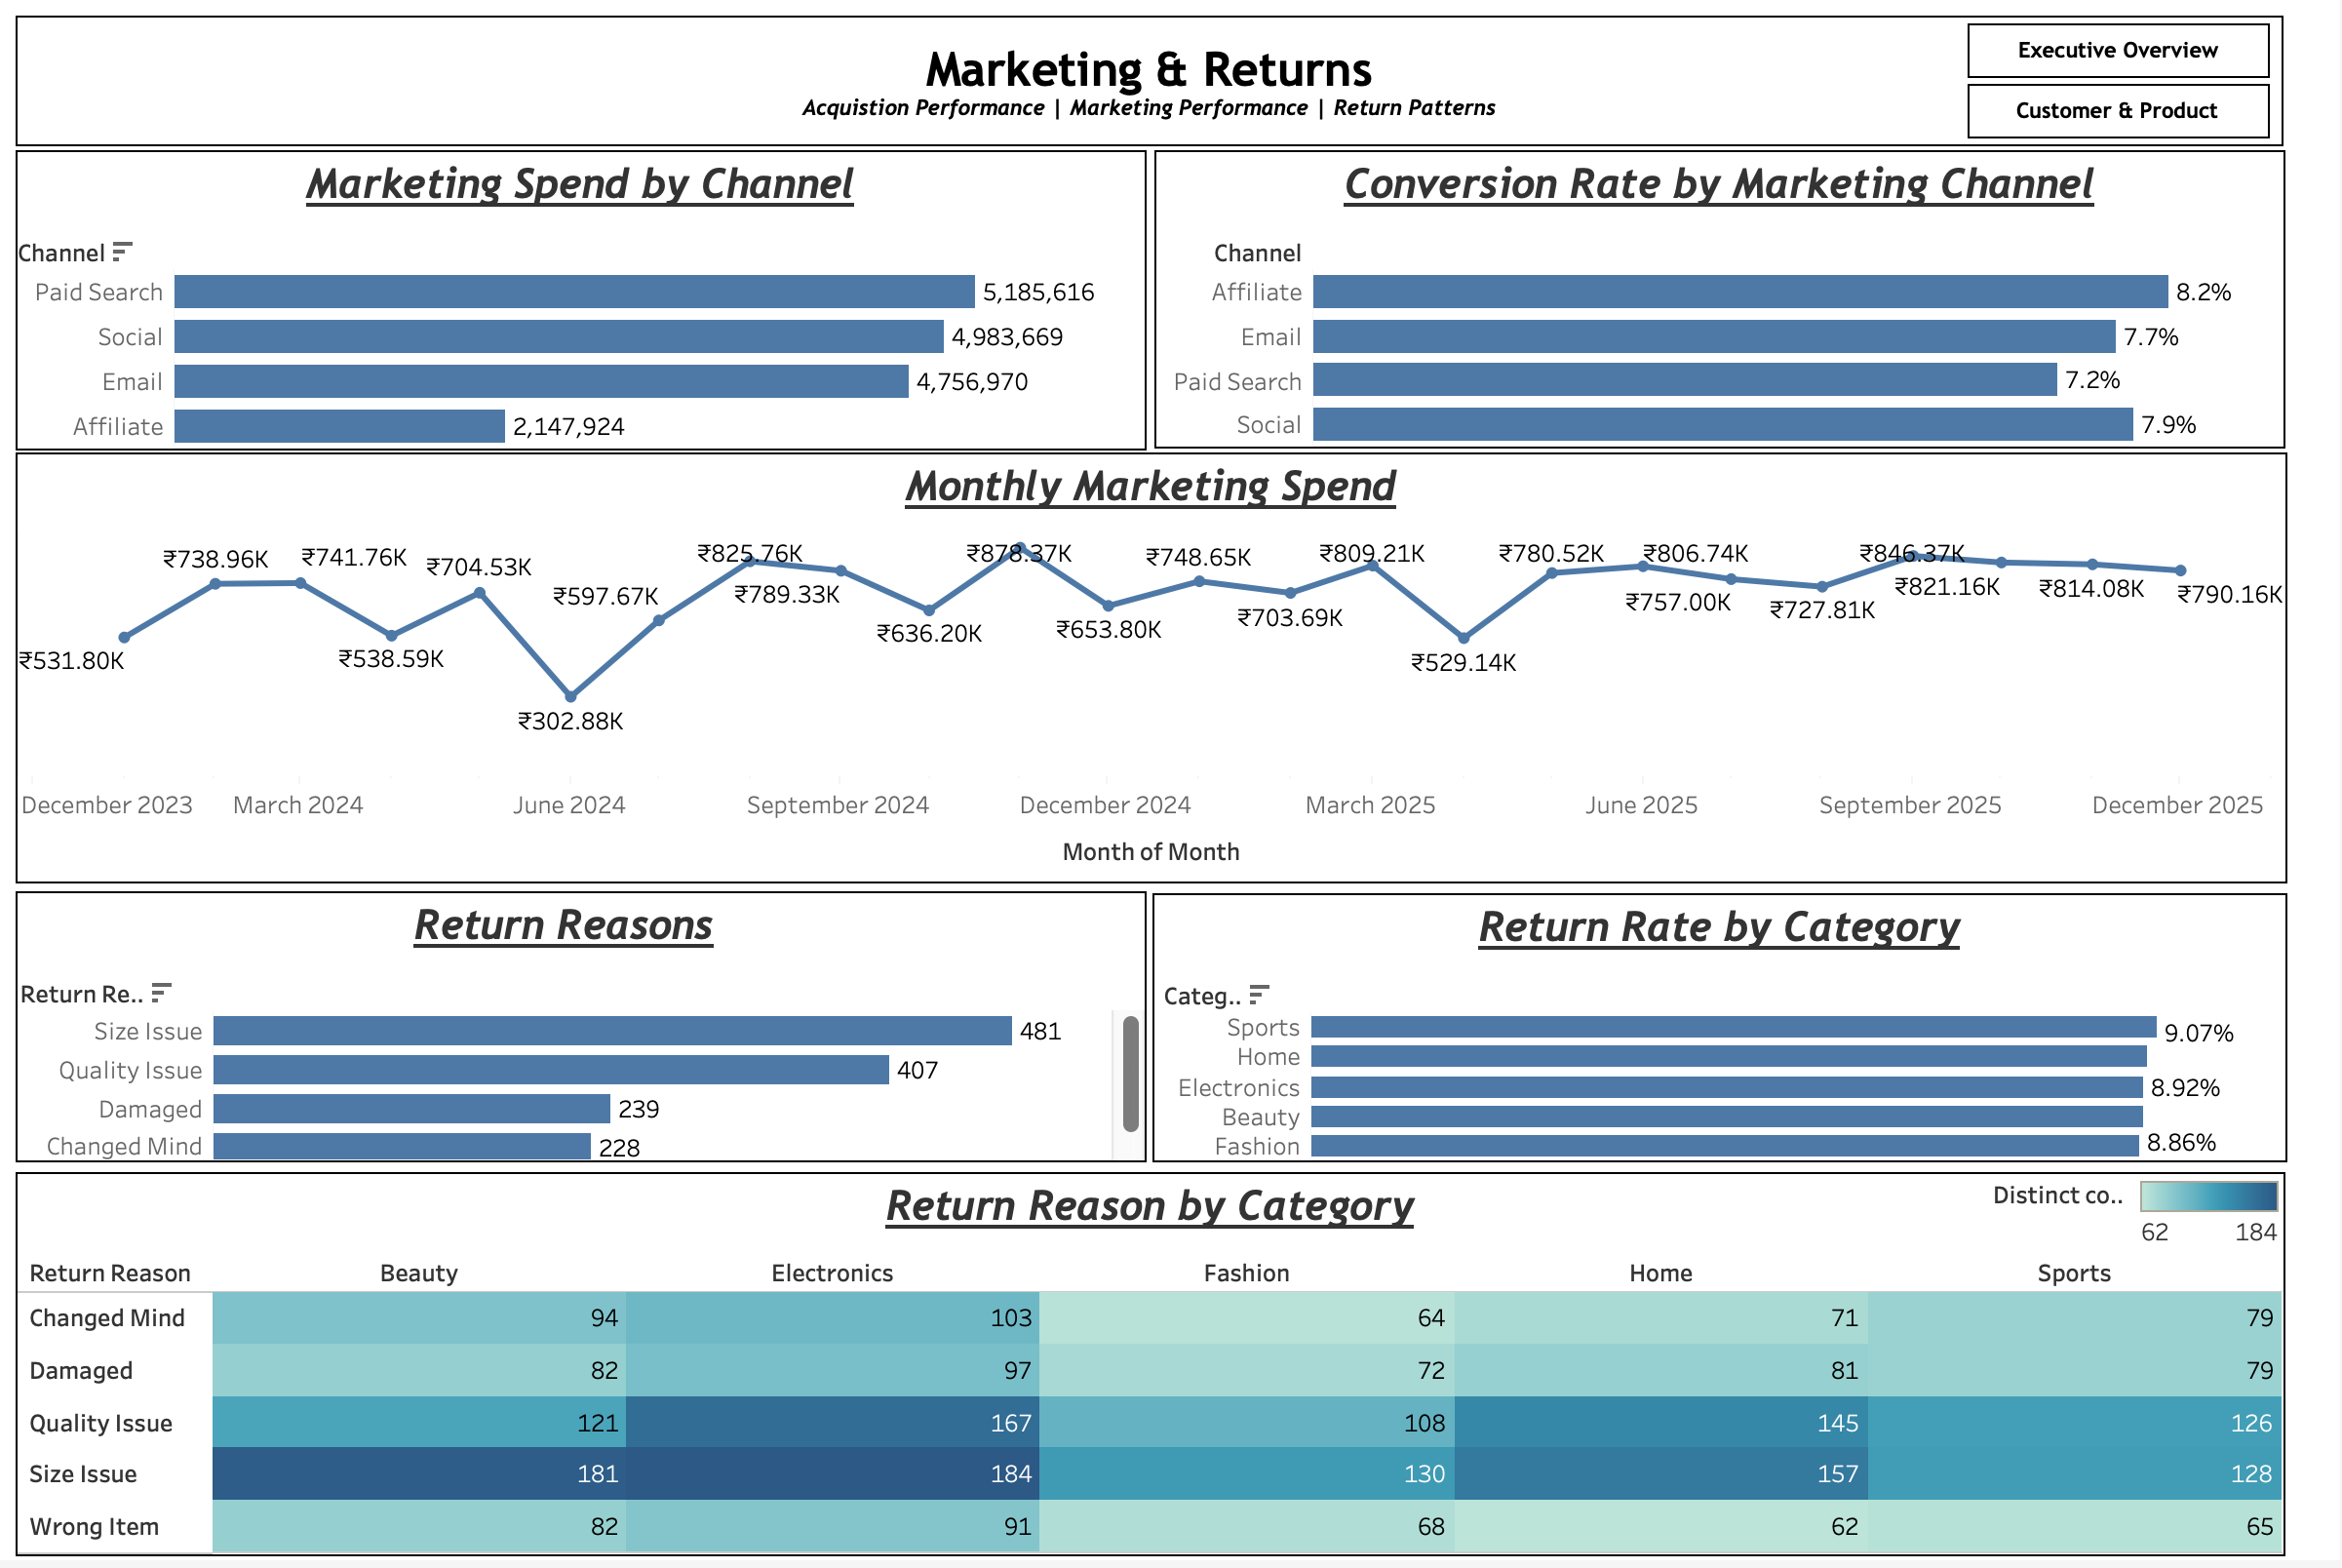

This screenshot's page, from the dashboard's own definition file:
{"tool":"tableau","page":{"name":"Marketing & Returns","canvas":[1200,800],"ordinal":2},"visuals":[{"type":"text","box":[8,8,1163,67]},{"type":"dashboard-object","box":[1009,12,155,28]},{"type":"dashboard-object","box":[1009,43,155,28]},{"type":"worksheet","title":"Marketing Spend by Channel","mark":"Automatic","rows":["channel"],"cols":["spend"],"box":[7.6,76.9,580.4,153.8]},{"type":"worksheet","title":"Marketing Conversion Rate by Channel","mark":"Automatic","rows":["channel"],"cols":["Calculation_6596428796809224"],"box":[592.4,76.9,580.4,153]},{"type":"worksheet","title":"Monthly Marketing Spend","mark":"Automatic","rows":["spend"],"cols":["month"],"box":[7.6,232.4,1165.2,221.1]},{"type":"worksheet","title":"Return Reasons","mark":"Automatic","rows":["return_reason"],"cols":["return_id"],"box":[7.6,457.5,580.4,139.3]},{"type":"worksheet","title":"Return Rate by Category","mark":"Bar","rows":["category"],"cols":["Calculation_6596428695355394"],"box":[590.9,458.3,581.9,137.6]},{"type":"worksheet","title":"Return Reason * Category","mark":"Square","rows":["return_reason"],"cols":["category"],"box":[7.6,600.8,1164.5,196.8]},{"type":"legend","title":"Return Reason * Category","param":"[federated.1gzx9gp1j1lm3x145ygit1gli344].[ctd:return_id:qk]","box":[1021.7,602.4,151.1,37.2]}]}

Visuals, with their boxes in screenshot pixels (x1, y1, x2, y2), scaled from the page's 1200x800 canvas onto the 2342x1568 screenshot:
text: (x1=16, y1=16, x2=2285, y2=147)
dashboard-object: (x1=1970, y1=23, x2=2272, y2=78)
dashboard-object: (x1=1970, y1=84, x2=2272, y2=139)
"Marketing Spend by Channel" worksheet: (x1=15, y1=151, x2=1148, y2=452)
"Marketing Conversion Rate by Channel" worksheet: (x1=1156, y1=151, x2=2289, y2=451)
"Monthly Marketing Spend" worksheet: (x1=15, y1=455, x2=2289, y2=889)
"Return Reasons" worksheet: (x1=15, y1=897, x2=1148, y2=1170)
"Return Rate by Category" worksheet (Bar marks): (x1=1153, y1=898, x2=2289, y2=1168)
"Return Reason * Category" worksheet (Square marks): (x1=15, y1=1178, x2=2287, y2=1563)
"Return Reason * Category" legend: (x1=1994, y1=1181, x2=2289, y2=1254)
